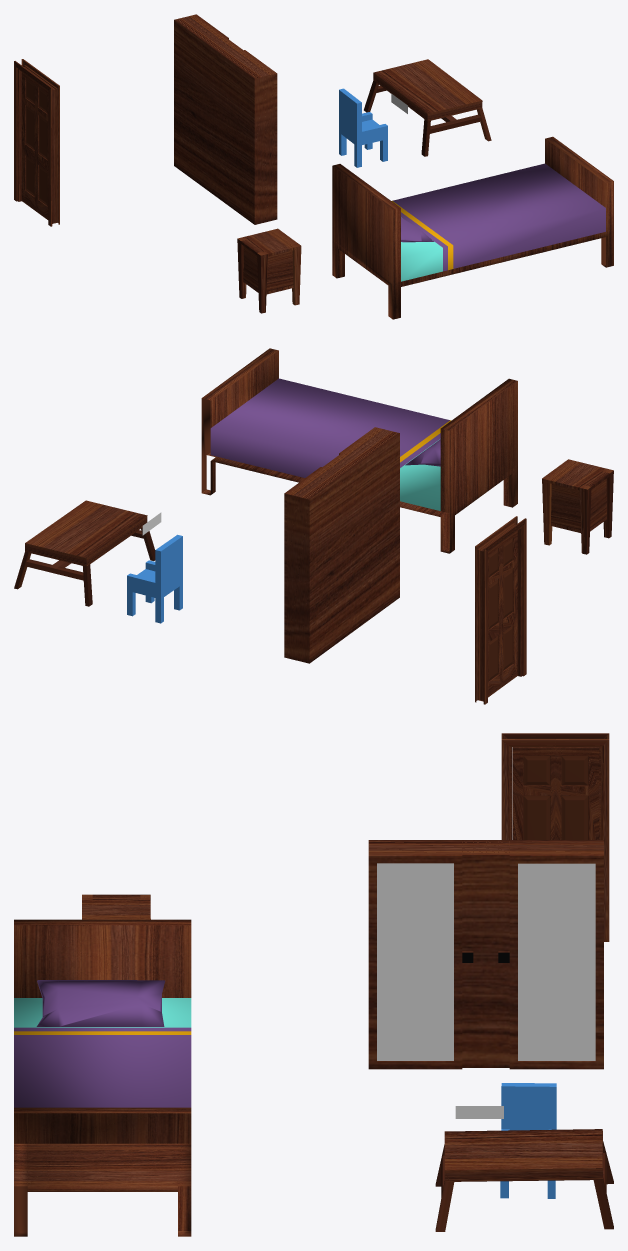
The model's file is duy21.glb.
The picture shows the model from 3 angles, top to bottom: view 1: azimuth 30°, elevation 25°; view 2: azimuth 150°, elevation 25°; view 3: azimuth 270°, elevation 25°; orthographic projection. The views are drawn at different scales.
Visible parts, largest first — view 1: bed, closet, basic_door, Cube, small chest, chair; view 2: bed, closet, basic_door, Cube, small chest, chair; view 3: bed, closet, kinh tu, kinh tu 1, basic_door, Cube, chair, small chest.
Boxes of the visible parts, x1,y1,x2,y2 form: bed: (332, 136, 613, 319); closet: (174, 14, 277, 224); basic_door: (14, 59, 59, 226); Cube: (364, 59, 491, 156); small chest: (237, 228, 301, 313); chair: (339, 88, 387, 167); bed: (201, 348, 517, 553); closet: (284, 427, 399, 663); basic_door: (475, 516, 526, 704); Cube: (14, 500, 155, 606); small chest: (542, 459, 613, 554); chair: (127, 534, 182, 623); bed: (14, 919, 191, 1236); closet: (368, 840, 603, 1069); kinh tu: (518, 863, 595, 1060); kinh tu 1: (377, 863, 453, 1060); basic_door: (501, 733, 609, 941); Cube: (435, 1129, 613, 1231); chair: (500, 1083, 556, 1198); small chest: (82, 894, 150, 919).
Bounding box in the file's own units: 130 × 47.02 × 111.
Materials: 12 (5 with a texture image).
